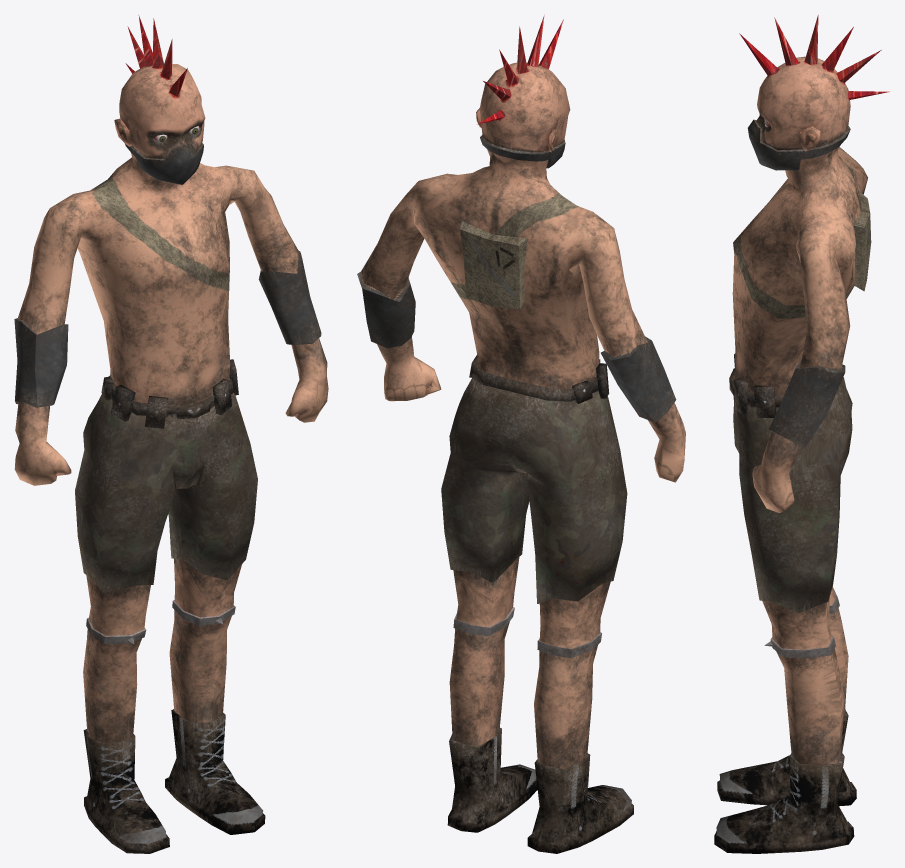
Rendered from Anim_cogerobjeto_npc2.0015.obj.
The picture shows the model from 3 angles, left to right: view 1: azimuth 30°, elevation 25°; view 2: azimuth 150°, elevation 25°; view 3: azimuth 270°, elevation 25°; orthographic projection.
Visible parts, largest first — view 1: polySurface1; view 2: polySurface1; view 3: polySurface1.
Boxes of the visible parts, x1,y1,x2,y2 form: polySurface1: (14, 15, 328, 853); polySurface1: (357, 14, 685, 853); polySurface1: (714, 15, 889, 853).
Bounding box in the file's own units: 4.11 × 10.19 × 2.02.
